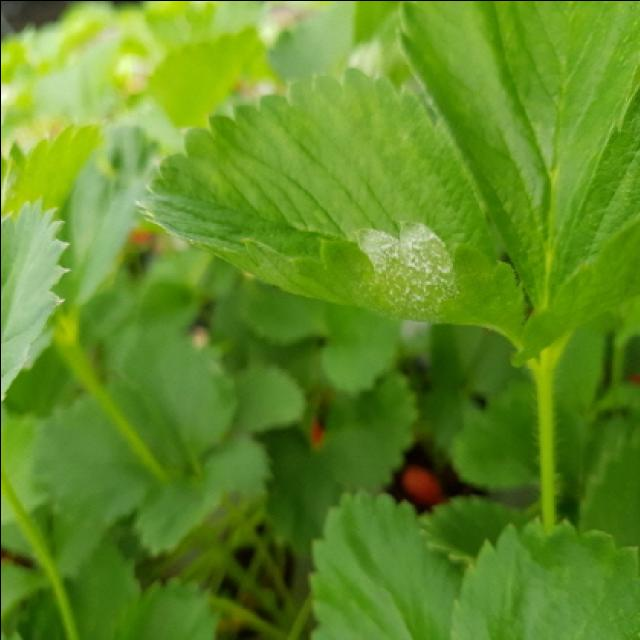Powdery Mildew Leaf: (131, 66, 527, 348)
